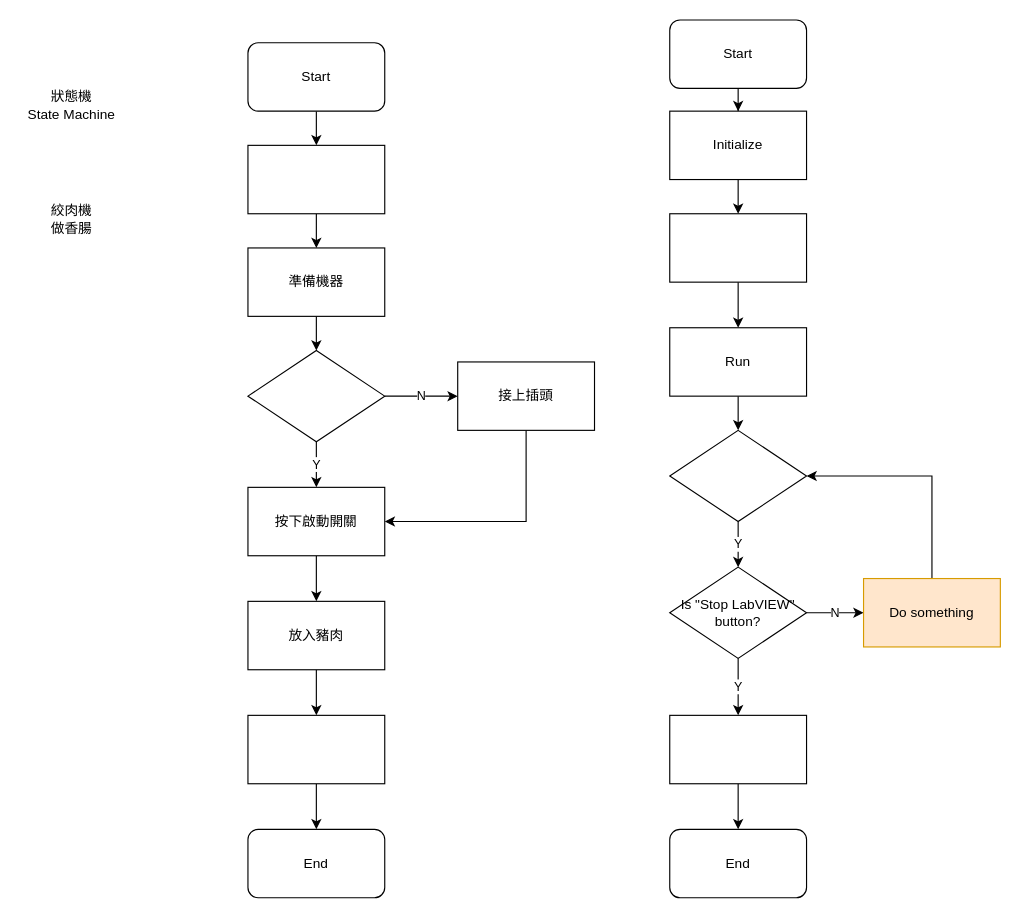
This 1020x918 diagram has some shape labels left out. The centre of each missing label's shape, as x and y in pixels:
"Check button status?" belongs at (738,475).
"Close VISA" belongs at (738,749).
"Open VISA" belongs at (738,247).
"得到香腸" belongs at (316,749).
"機器是否接插頭" belongs at (316,395).
"準備食材" belongs at (316,179).
